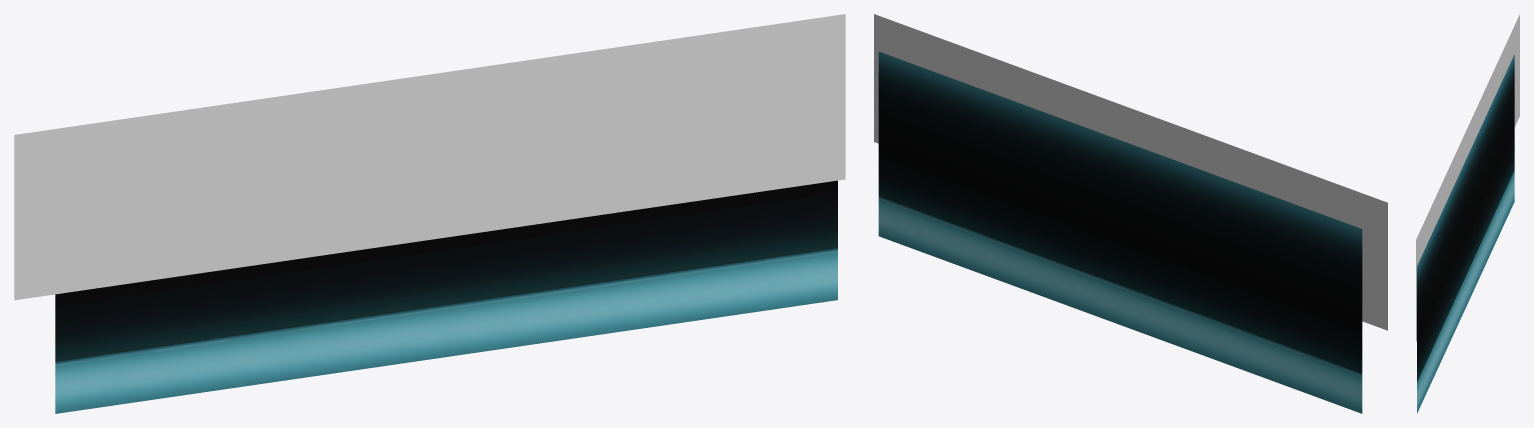
Rendered from pref_fxui_BackFlowOpenViewPage_screenflicker.fbx.
The picture shows the model from 3 angles, left to right: view 1: azimuth 30°, elevation 25°; view 2: azimuth 150°, elevation 25°; view 3: azimuth 270°, elevation 25°; orthographic projection. The views are drawn at different scales.
Parts seen in each view (by area): view 1: mask02 (1), mask02; view 2: mask02, mask02 (1); view 3: mask02, mask02 (1).
Part boxes in pixels (x1=…): mask02 (1): x1=14, y1=14, x2=845, y2=300; mask02: x1=55, y1=180, x2=837, y2=413; mask02: x1=878, y1=51, x2=1362, y2=413; mask02 (1): x1=874, y1=14, x2=1387, y2=330; mask02: x1=1417, y1=54, x2=1514, y2=413; mask02 (1): x1=1416, y1=14, x2=1519, y2=341.
Bounding box in the file's own units: 980 × 357 × 190.
